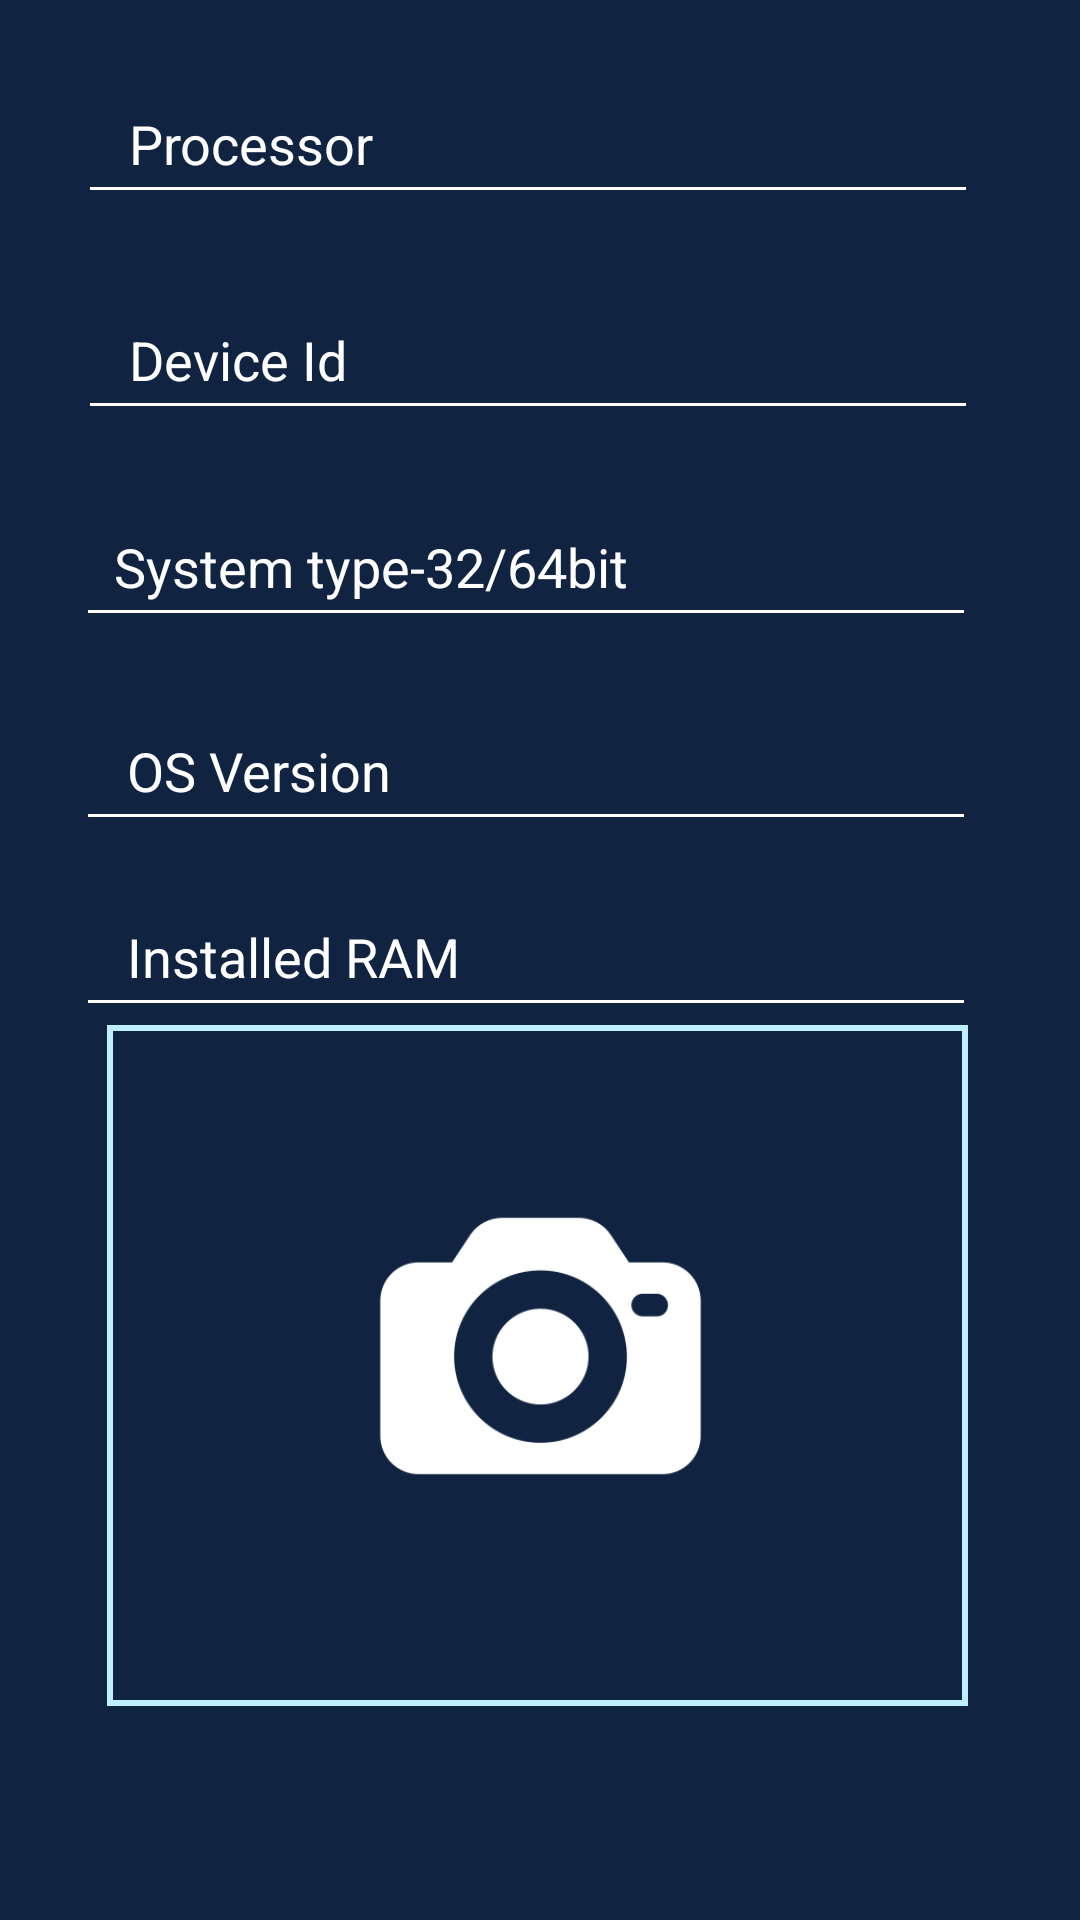

Point at icon controls on the screen. Image size 1080 x 1920, points as point (x, y).
cameraicon: point (540, 1346)
